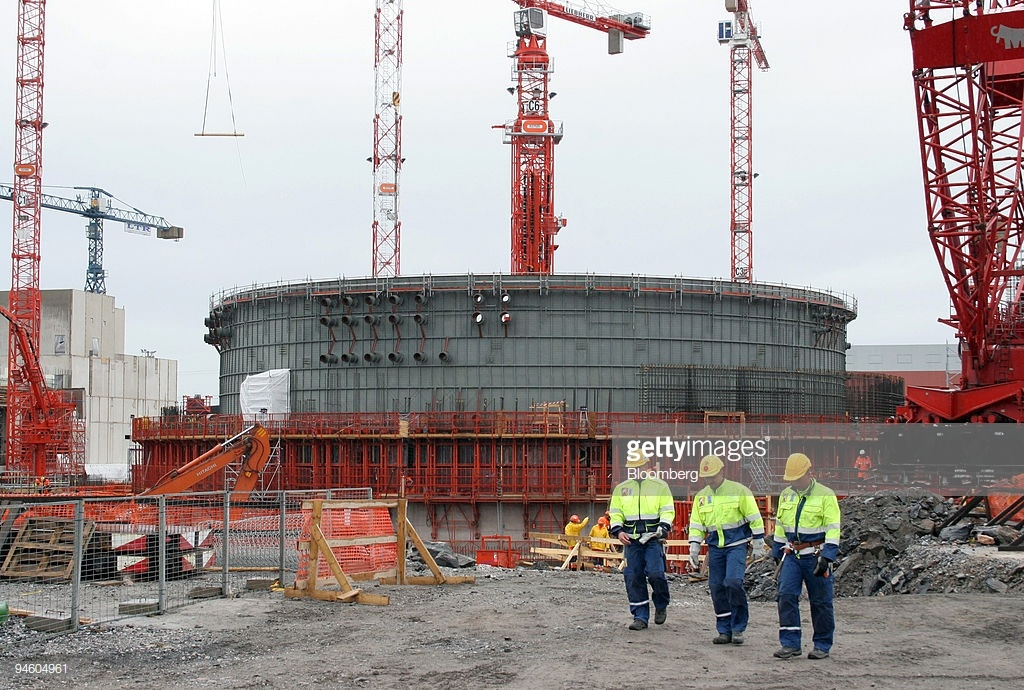white: (859, 449, 866, 457)
yellow: (783, 452, 812, 492), (696, 453, 726, 489), (625, 447, 650, 480)
